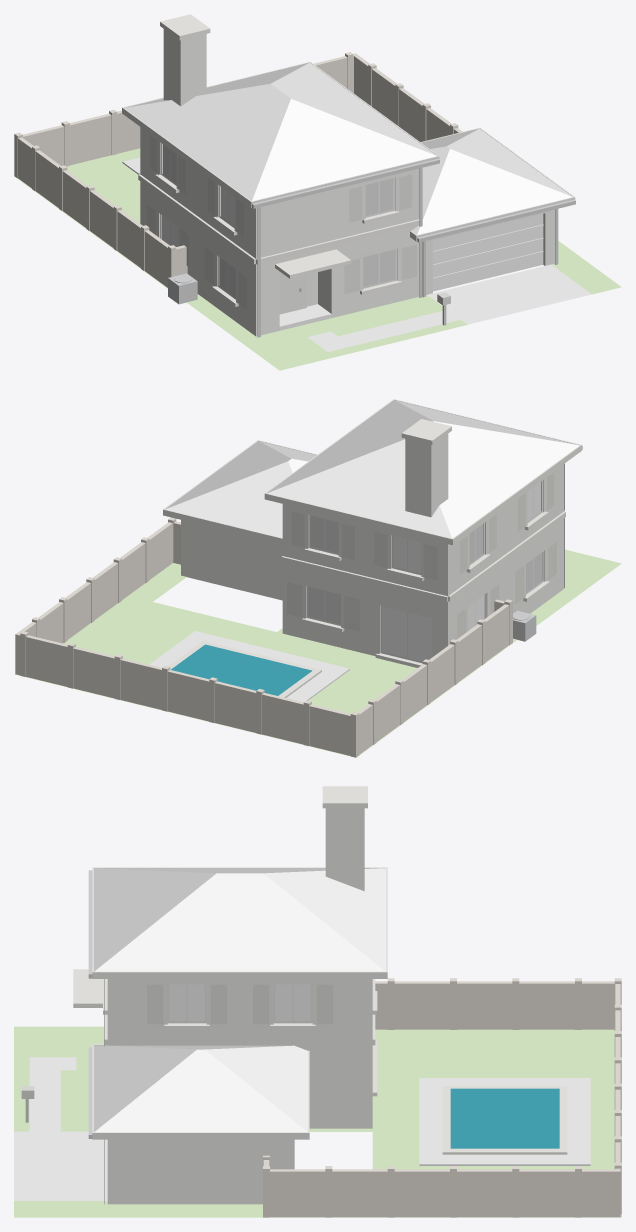
File: house_tract258b.glb
3 renders of one model, top to bottom at view 1: azimuth 30°, elevation 25°; view 2: azimuth 150°, elevation 25°; view 3: azimuth 270°, elevation 25°, orthographic. The views are drawn at different scales.
Parts seen in each view (by area): view 1: house_tract258b_Roof, house_tract258b_Walls, house_tract258b_Walls2, house_tract258b_Lawn, house_tract258b_Trim, house_tract258b_Site, house_tract258b_Doors, house_tract258b_Details, house_tract258b_Accent, house_tract258b_WindowsLit, house_tract258b_Frames, house_tract258b_Glass; view 2: house_tract258b_Walls2, house_tract258b_Roof, house_tract258b_Walls, house_tract258b_Lawn, house_tract258b_Trim, house_tract258b_Accent, house_tract258b_Glass, house_tract258b_Water, house_tract258b_WindowsLit, house_tract258b_Site, house_tract258b_Frames, house_tract258b_Details; view 3: house_tract258b_Roof, house_tract258b_Walls2, house_tract258b_Walls, house_tract258b_Lawn, house_tract258b_Site, house_tract258b_Trim, house_tract258b_Water, house_tract258b_Accent, house_tract258b_Glass, house_tract258b_Details, house_tract258b_Frames.
Boxes of the visible parts, left/top/right/bottom form: house_tract258b_Roof: left=124, top=62, right=572, bottom=234; house_tract258b_Walls: left=140, top=29, right=554, bottom=336; house_tract258b_Walls2: left=14, top=52, right=462, bottom=287; house_tract258b_Lawn: left=14, top=148, right=621, bottom=370; house_tract258b_Trim: left=122, top=14, right=575, bottom=306; house_tract258b_Site: left=122, top=157, right=591, bottom=351; house_tract258b_Doors: left=433, top=214, right=543, bottom=291; house_tract258b_Details: left=168, top=158, right=575, bottom=337; house_tract258b_Accent: left=147, top=135, right=450, bottom=309; house_tract258b_WindowsLit: left=163, top=144, right=395, bottom=297; house_tract258b_Frames: left=160, top=143, right=397, bottom=314; house_tract258b_Glass: left=161, top=187, right=234, bottom=246; house_tract258b_Walls2: left=15, top=517, right=512, bottom=757; house_tract258b_Roof: left=165, top=400, right=579, bottom=538; house_tract258b_Walls: left=181, top=434, right=563, bottom=656; house_tract258b_Lawn: left=14, top=549, right=621, bottom=757; house_tract258b_Trim: left=163, top=399, right=581, bottom=697; house_tract258b_Accent: left=287, top=472, right=556, bottom=638; house_tract258b_Glass: left=382, top=482, right=540, bottom=661; house_tract258b_Water: left=171, top=644, right=312, bottom=695; house_tract258b_WindowsLit: left=308, top=516, right=542, bottom=624; house_tract258b_Site: left=149, top=631, right=349, bottom=702; house_tract258b_Frames: left=307, top=480, right=544, bottom=663; house_tract258b_Details: left=513, top=445, right=582, bottom=641; house_tract258b_Roof: left=94, top=868, right=386, bottom=1132; house_tract258b_Walls2: left=263, top=978, right=621, bottom=1217; house_tract258b_Walls: left=107, top=808, right=372, bottom=1204; house_tract258b_Lawn: left=14, top=1026, right=621, bottom=1217; house_tract258b_Site: left=14, top=1057, right=590, bottom=1200; house_tract258b_Trim: left=73, top=786, right=567, bottom=1154; house_tract258b_Water: left=450, top=1088, right=559, bottom=1148; house_tract258b_Accent: left=21, top=984, right=333, bottom=1098; house_tract258b_Glass: left=169, top=984, right=310, bottom=1021; house_tract258b_Details: left=25, top=870, right=104, bottom=1204; house_tract258b_Frames: left=167, top=984, right=312, bottom=1023.
Bounding box in the file's own units: 59.28 × 36.84 × 78.
